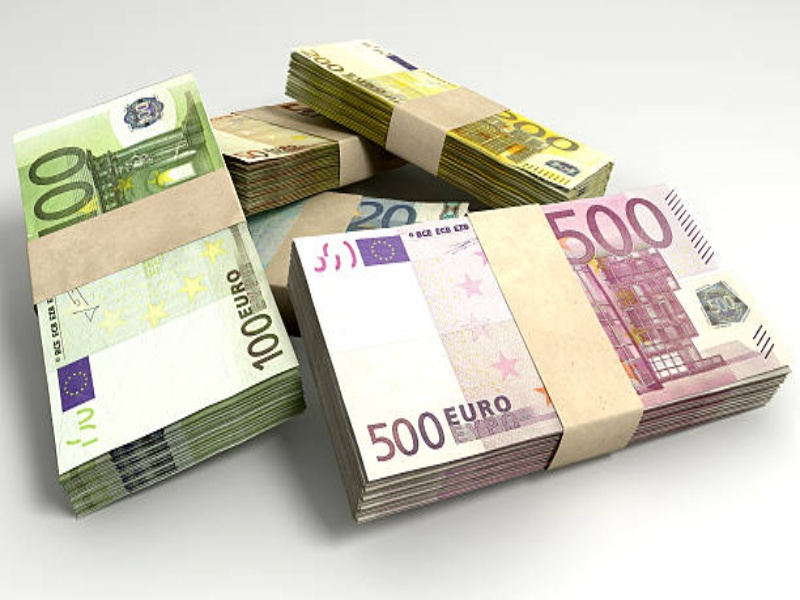cash: (285, 182, 790, 529), (13, 73, 308, 517), (287, 37, 611, 206), (247, 190, 472, 296), (210, 101, 410, 214)
